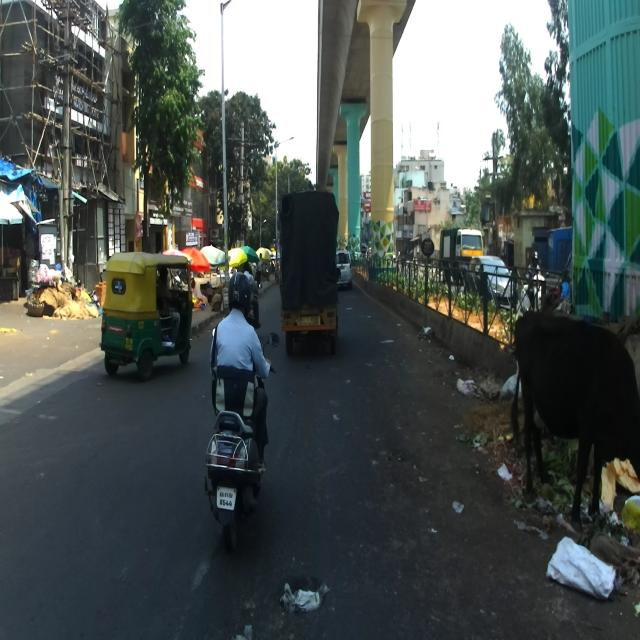autorickshaw: (98, 250, 196, 380)
scooter: (201, 329, 280, 557)
truck: (279, 186, 338, 354)
